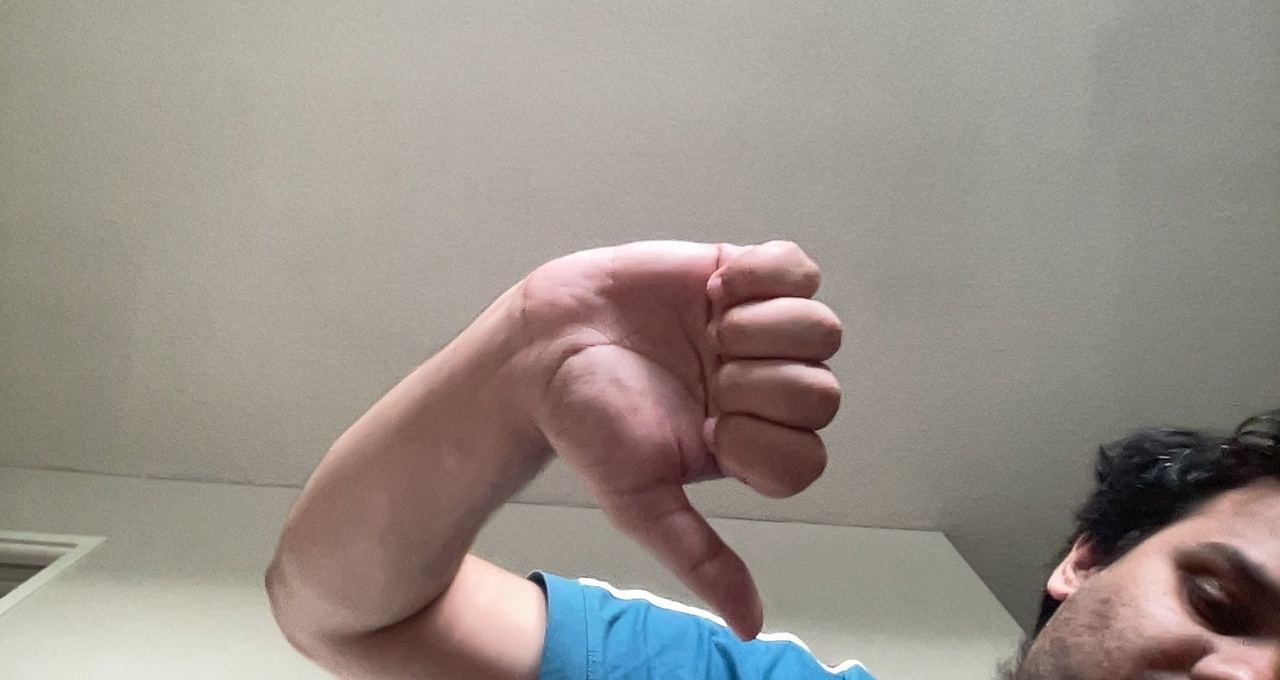thumbsdown: (531, 229, 863, 648)
